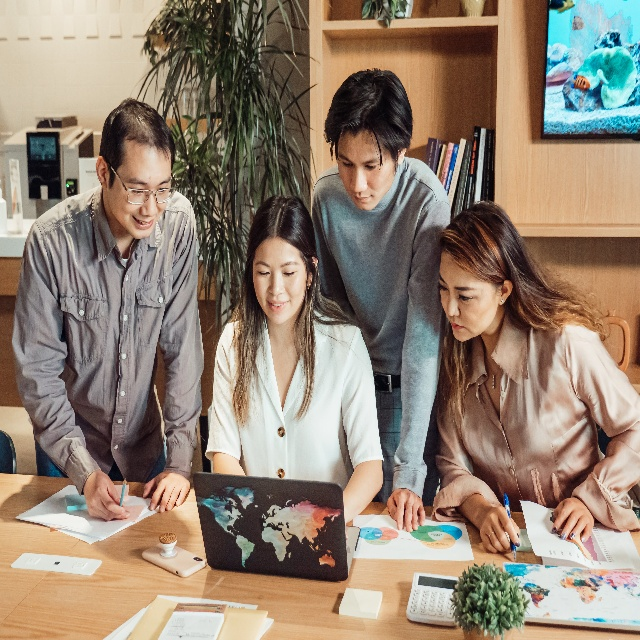Gafas: (104, 158, 179, 205)
Sin_guantes: (81, 468, 131, 524), (477, 506, 521, 555), (551, 495, 596, 542), (142, 473, 192, 513), (386, 486, 427, 533)
